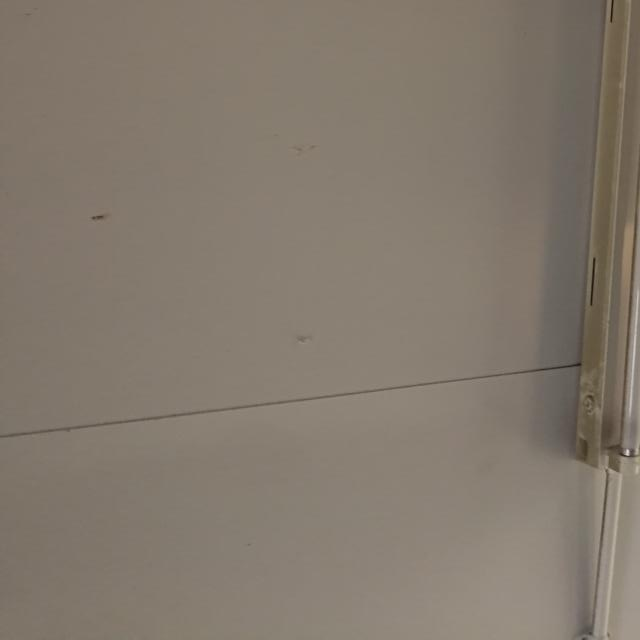fluorescent tube: (552, 1, 640, 484)
